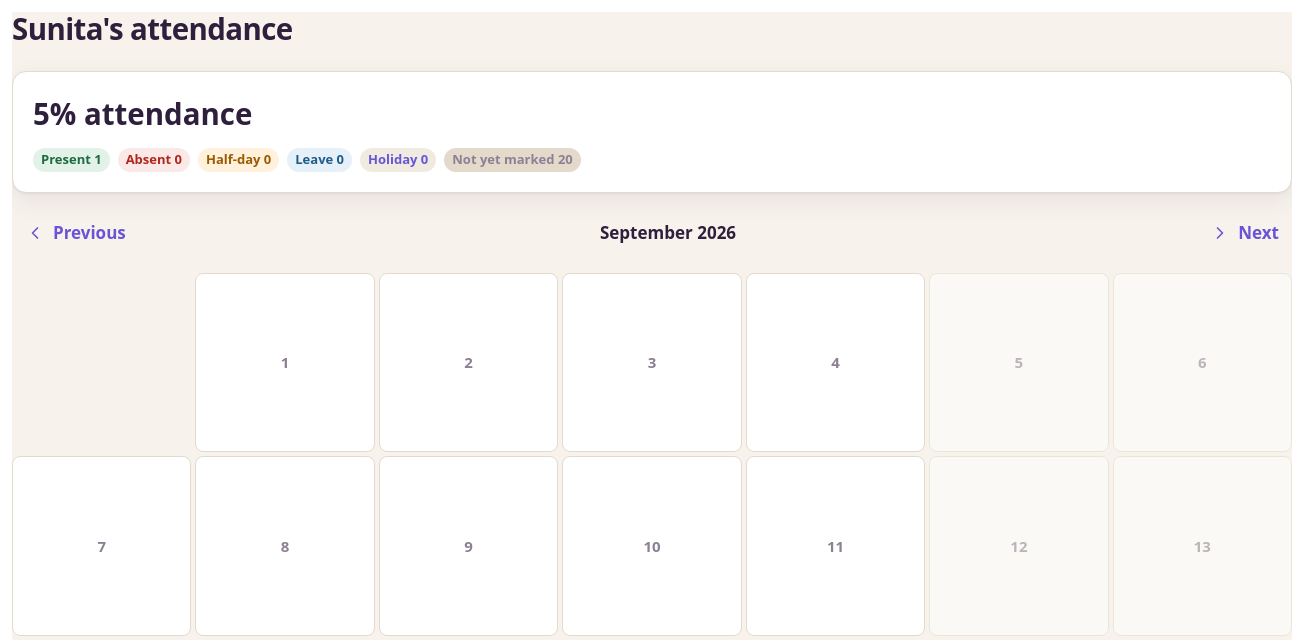
it: HousehelpCalendarPage › navigates to the next month and requests its data
The width and height of the screenshot is (1304, 640).
Expected: the text "September 2026" is shown, [600, 220, 736, 246]
Click the button "Next". click: {"x": 1245, "y": 233}
box: [1197, 209, 1292, 257]
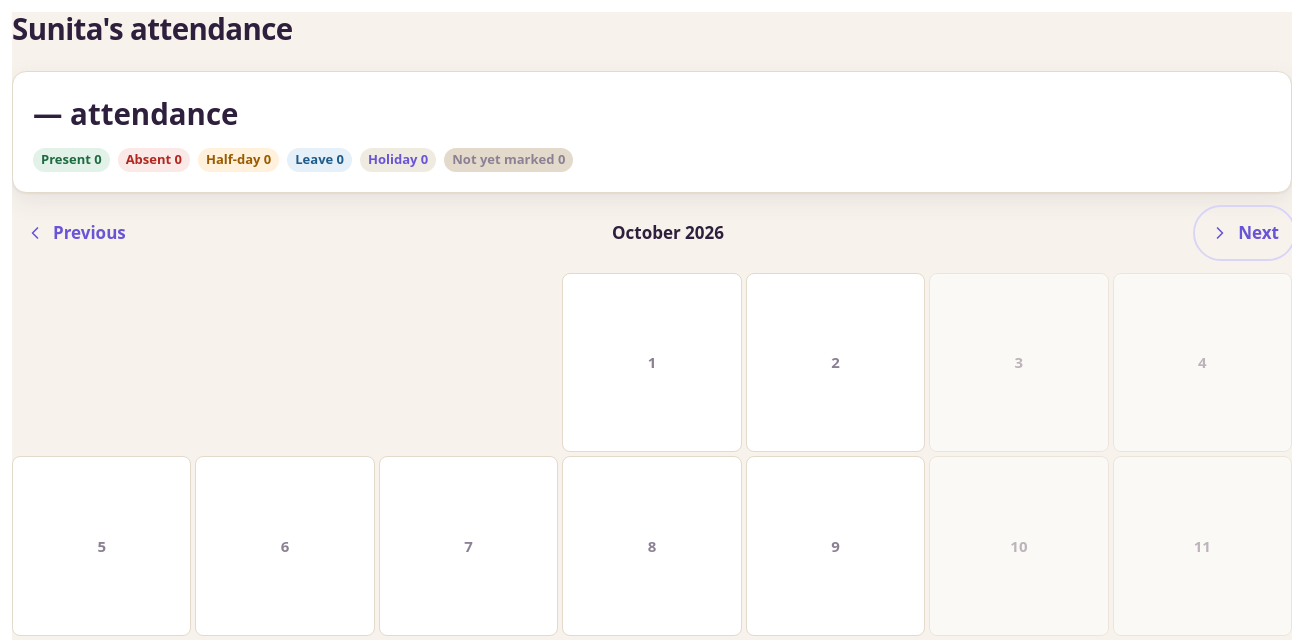
Now the text "October 2026" is shown, box [612, 220, 724, 246]
